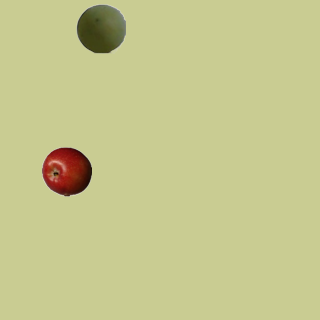Apple Braeburn: (41, 146, 91, 196)
Grape White 4: (75, 3, 125, 53)
